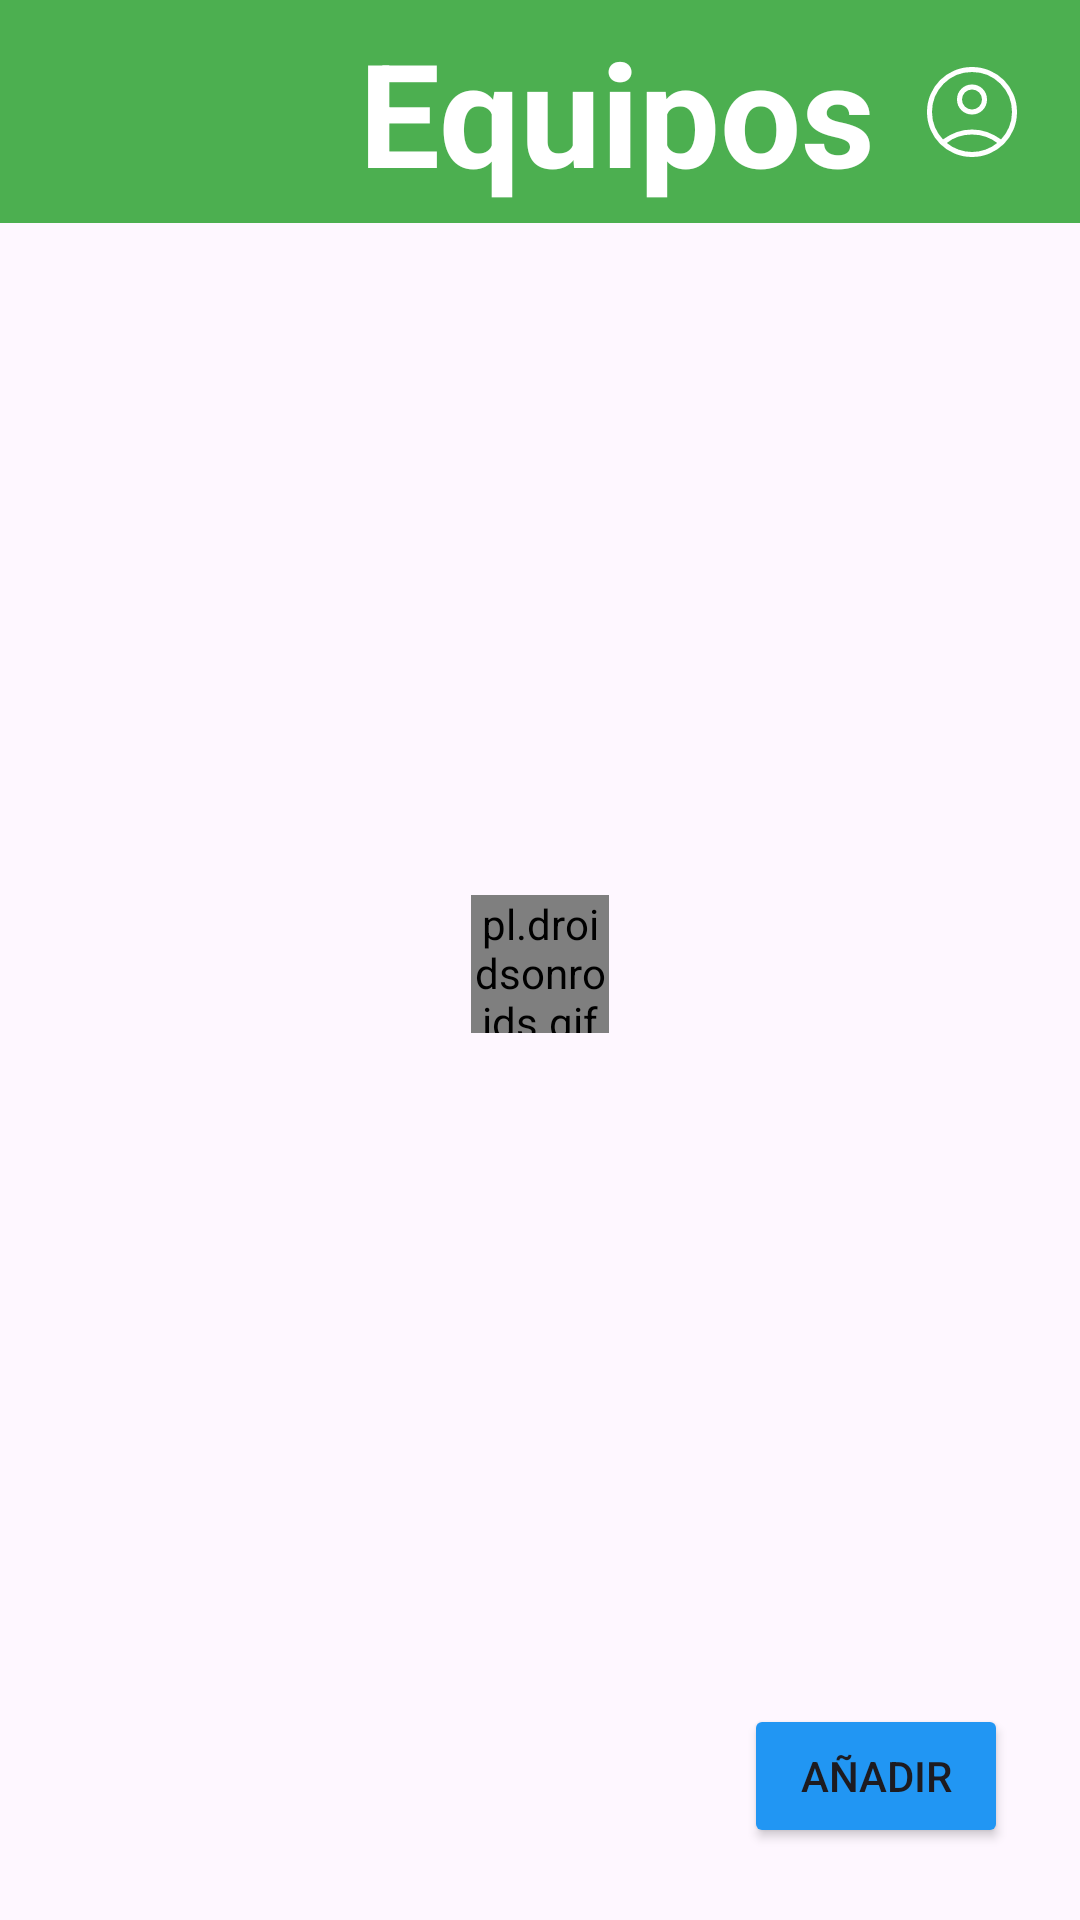

Icon bounding boxes for this 1080*1920 phone screenshot, format (x1, y1, x2, y2):
user circle: (927, 67, 1017, 157)
